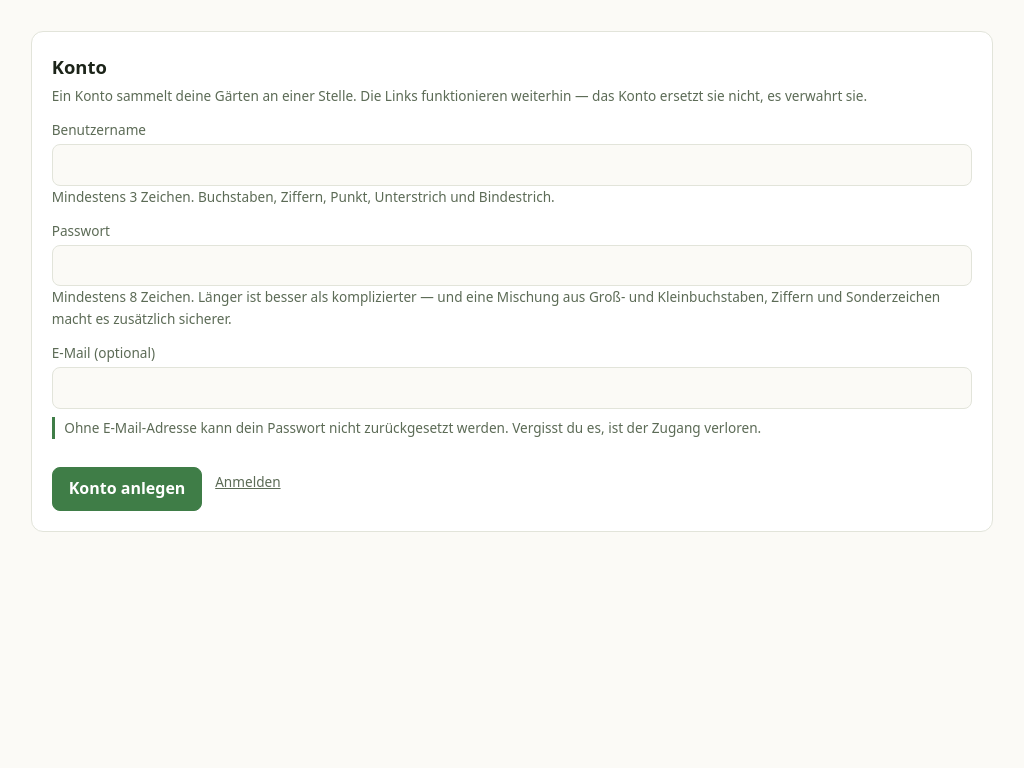
Scenario: AccountPanel — the rules, where the field is › refuses a two-letter username before asking the server
Type "jw" into the field labelled "Benutzername".
click(512, 165); type("jw")  # box [52,144,972,186]
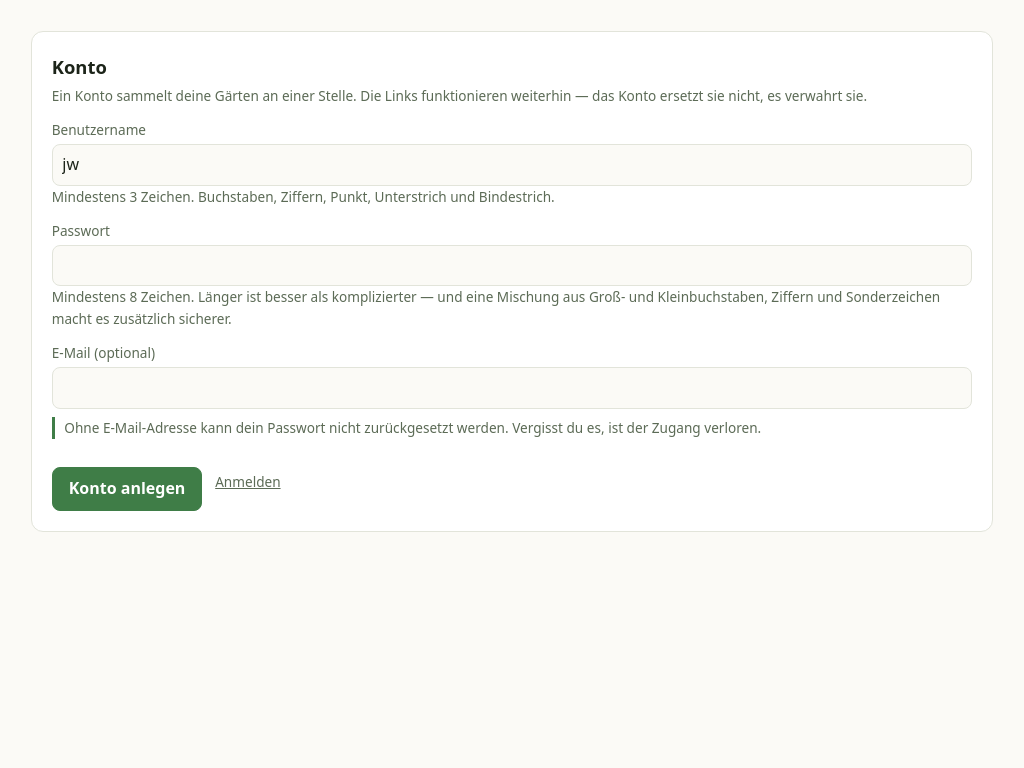
Type "genug lang" into the password field labelled "Passwort".
click(512, 266); type("genug lang")  # box [52,244,972,286]
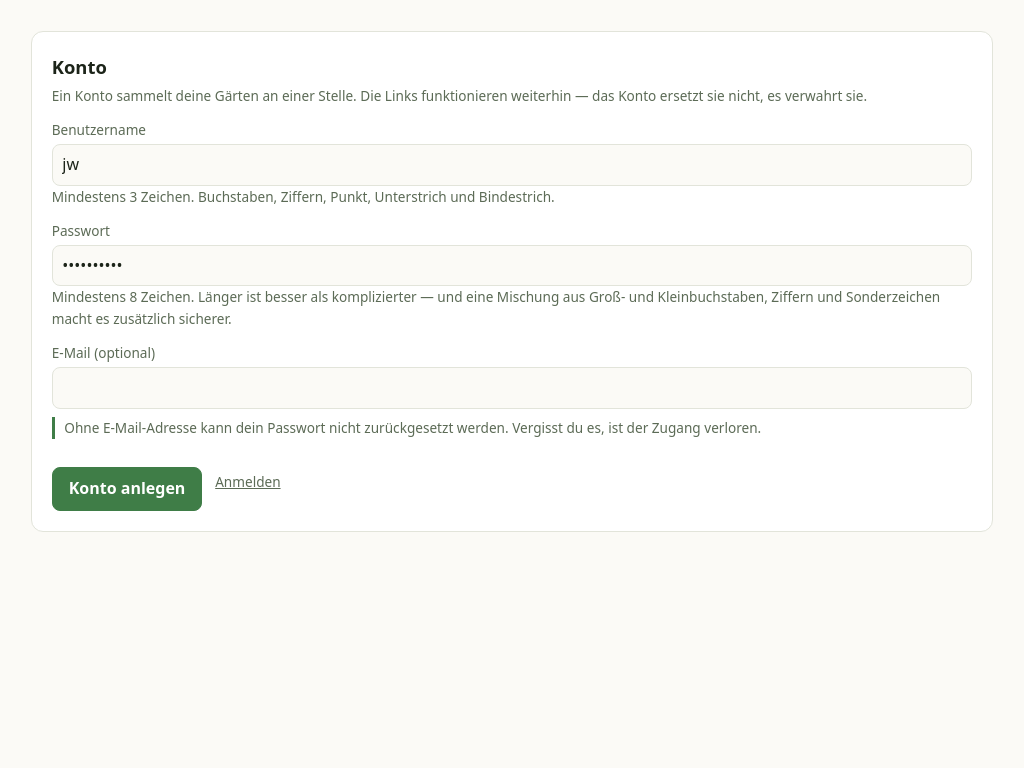
Click the button "Konto anlegen".
click(127, 489)  # box [52,467,202,511]
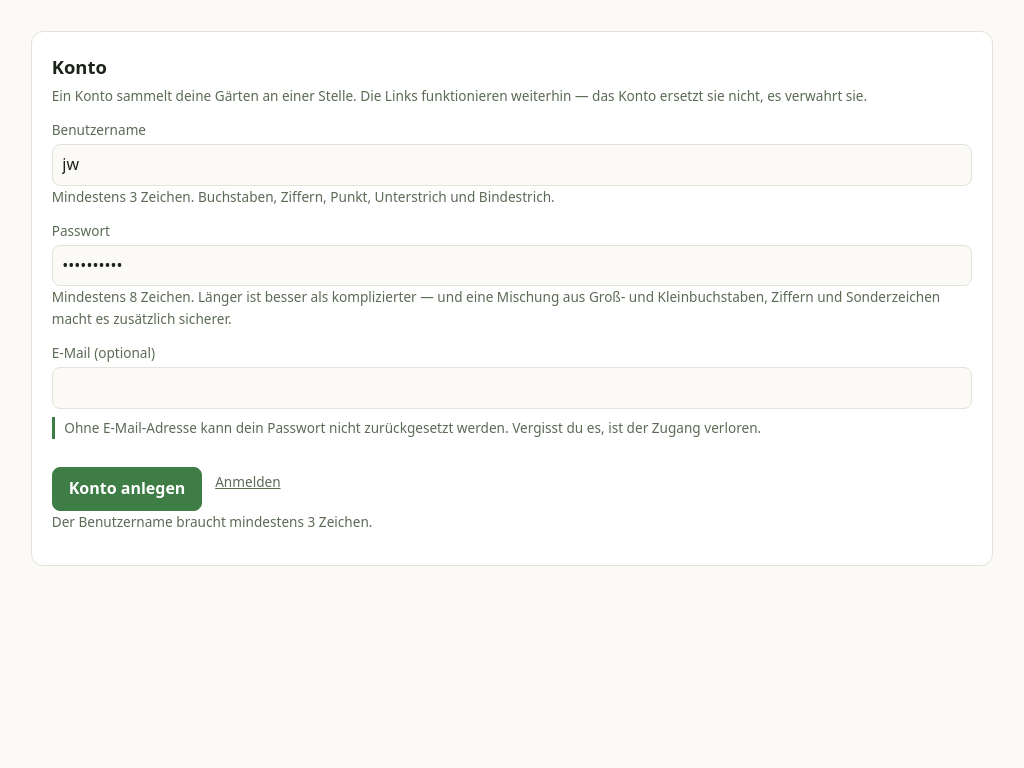
Result: the message shows "mindestens 3" at [52,512,372,531]
